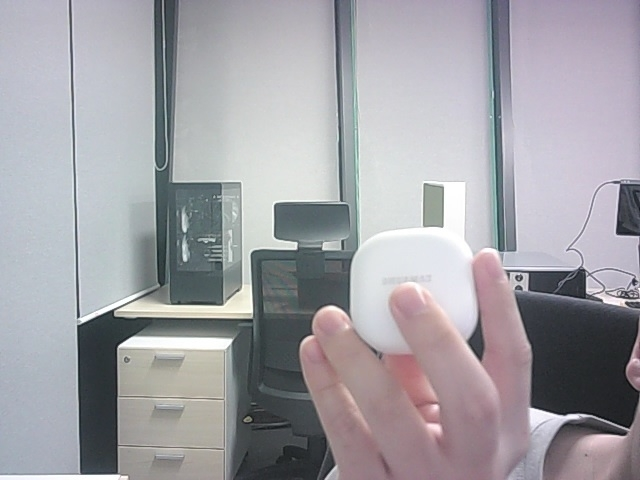case: (350, 227, 477, 354)
